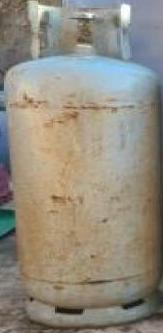cylinder: (1, 0, 163, 333)
